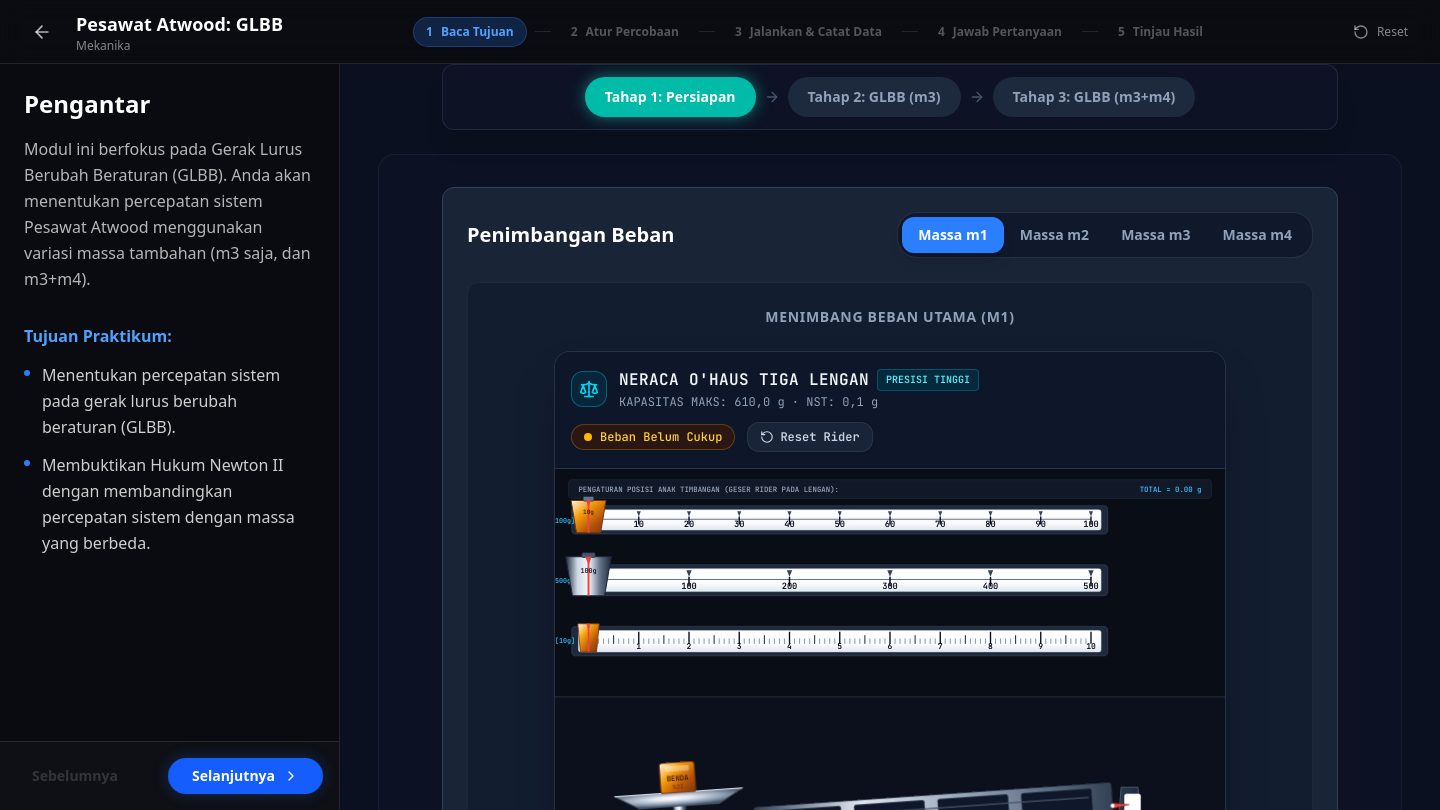
Test case: E. BUG GATING & B. ALASAN TERKUNCI - Regression Tests › Atwood GLBB: in SIMULATION step with 0 rows, shows blocked reason
Click the button with test id "practicum-next-step": (245, 776) [168,758,323,794]
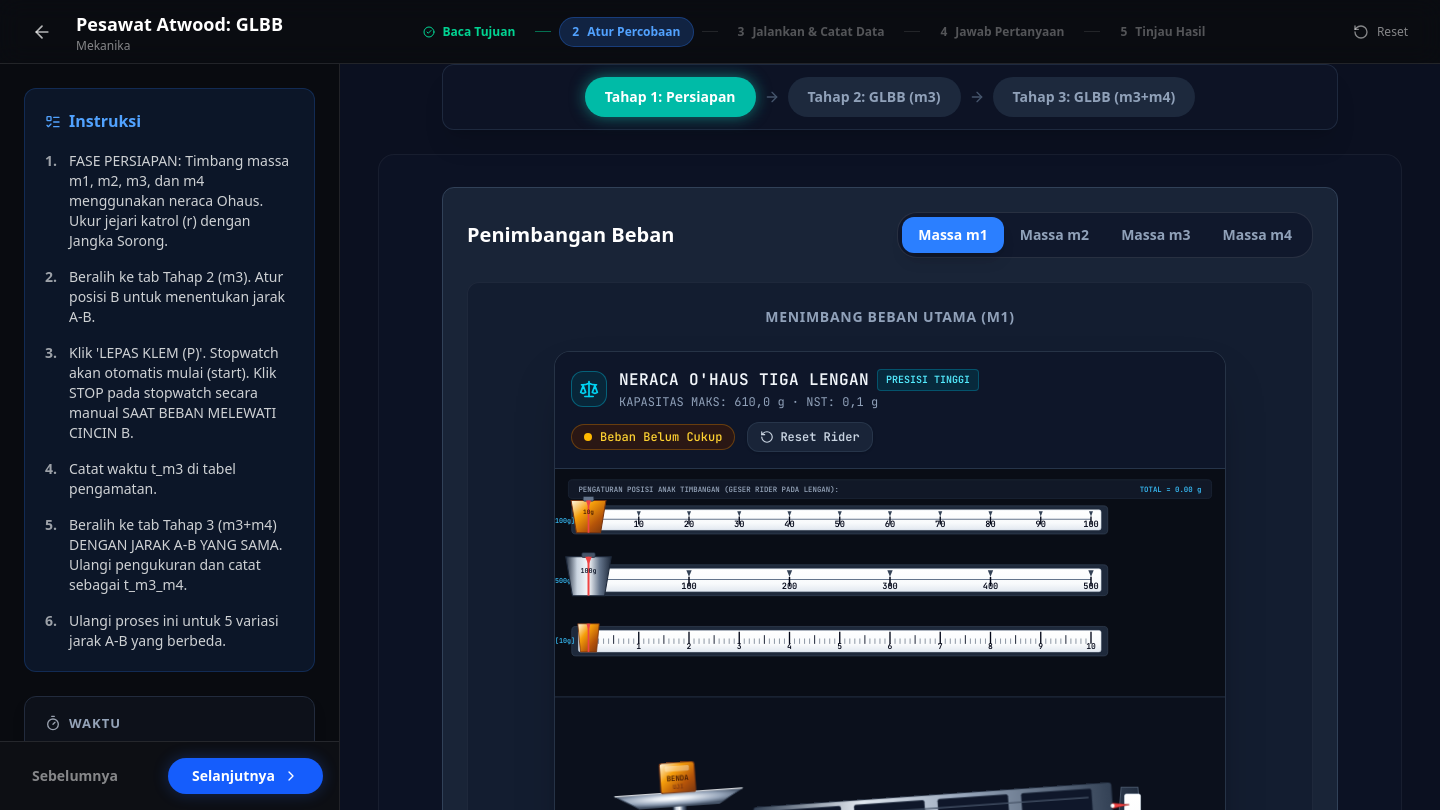
Click the button with test id "practicum-next-step": (245, 776) [168,758,323,794]
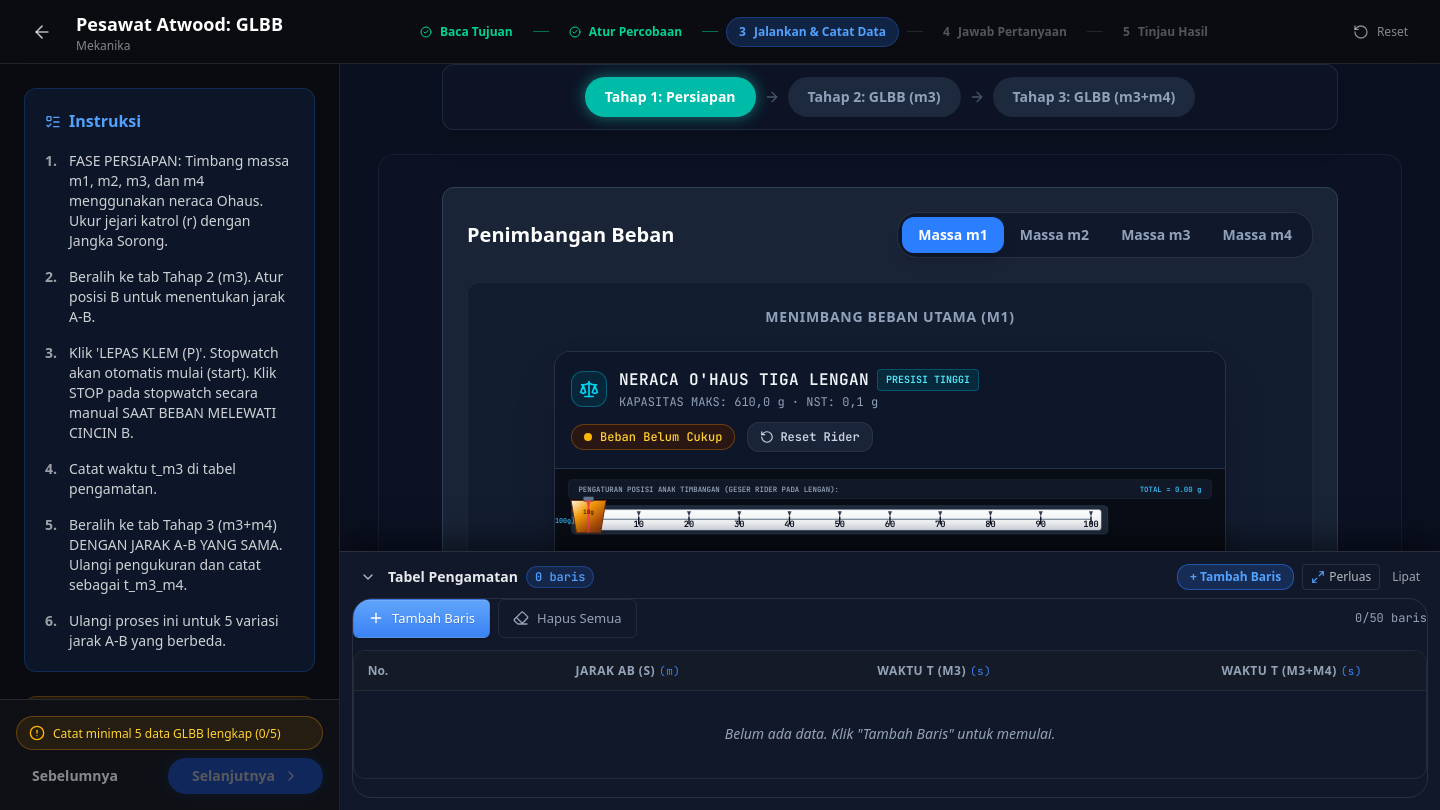
Now the button with test id "practicum-next-step" is disabled, box [168,758,323,794]
Now the element with test id "next-blocked-reason" reads "Catat minimal 5 data GLBB lengkap (0/5)", box [53,724,280,742]
